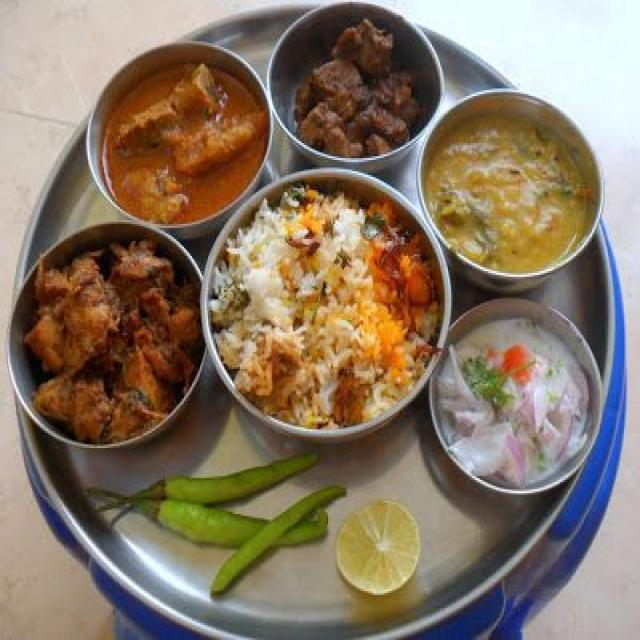non veg meals: (7, 0, 610, 582)
